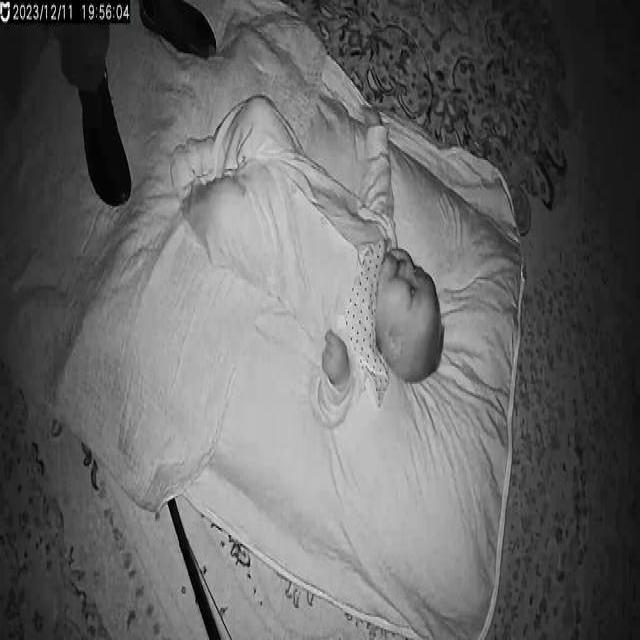baby: (168, 93, 444, 427)
